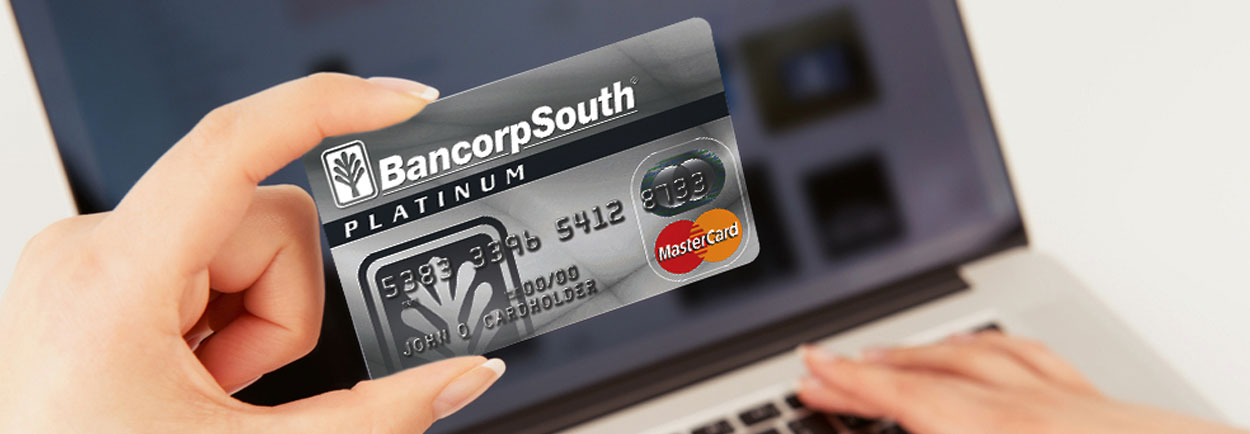tarjeta: (302, 14, 765, 381)
